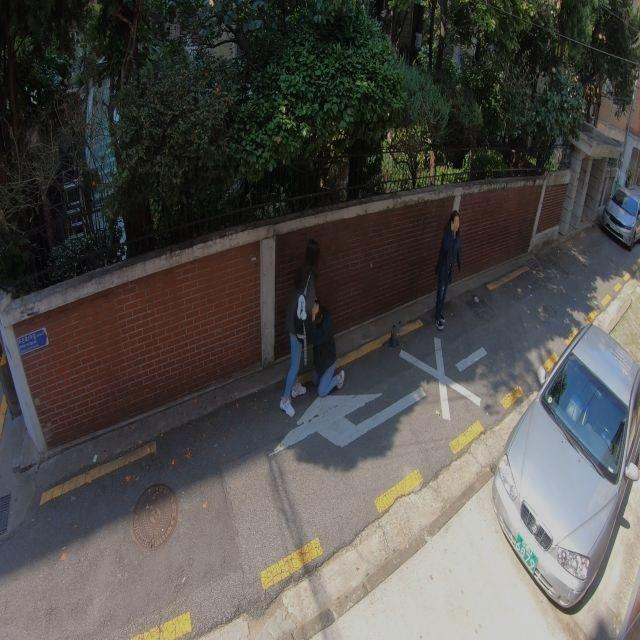fight: (283, 252, 340, 420)
non-fight: (432, 208, 463, 329)
